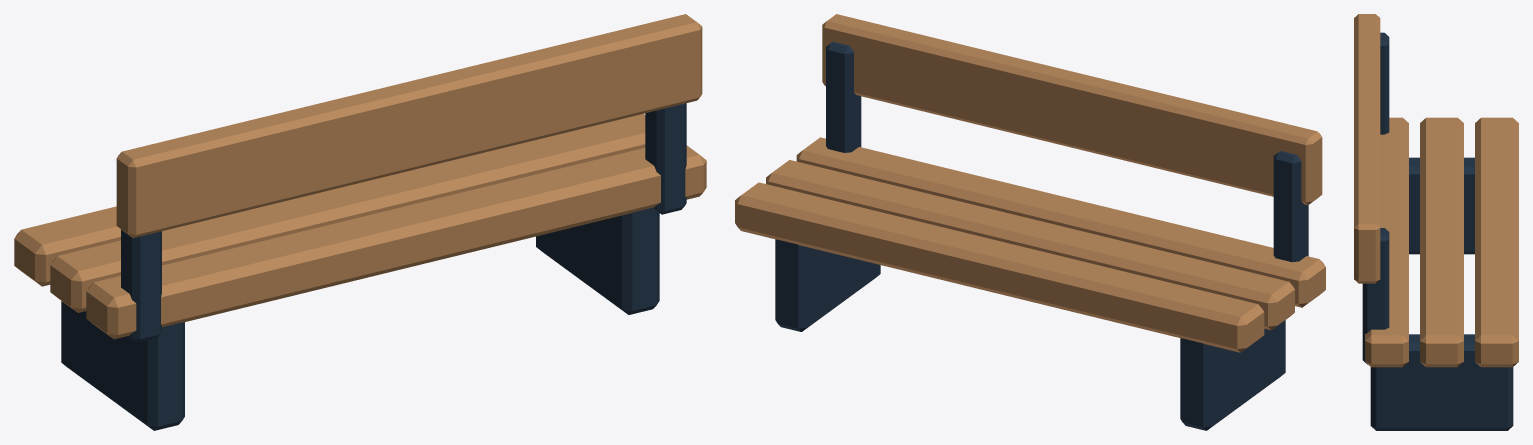
Rendered from SM_Bench.obj.
3 views of the same model, side by side, from view 1: azimuth 30°, elevation 25°; view 2: azimuth 150°, elevation 25°; view 3: azimuth 270°, elevation 25° (orthographic). The views are drawn at different scales.
Visible parts, largest first — view 1: SM_Bench; view 2: SM_Bench; view 3: SM_Bench.
Part boxes in pixels (x1,y1,x2,y2): SM_Bench: (14,14,706,430); SM_Bench: (735,14,1325,430); SM_Bench: (1354,14,1518,430).
Size of the model in its own units: 2.4 by 1.1 by 0.75.
